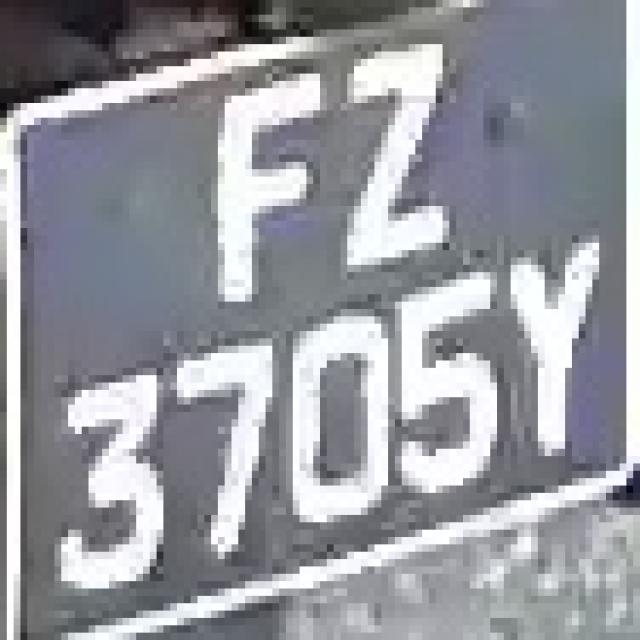0: (266, 309, 408, 544)
3: (41, 353, 177, 596)
5: (374, 243, 510, 500)
7: (143, 324, 286, 581)
F: (198, 59, 334, 324)
Y: (504, 221, 613, 478)
Z: (313, 29, 477, 272)
